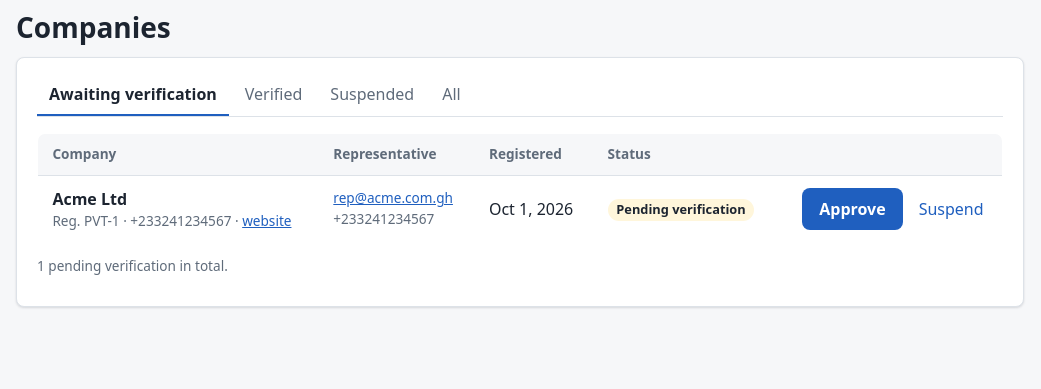
it: CompaniesPage (US-04, US-12) › shows why an approval was refused
The width and height of the screenshot is (1041, 389).
Click the button "Approve".
click(852, 209)  # box top-left (802, 188), bottom-right (903, 230)
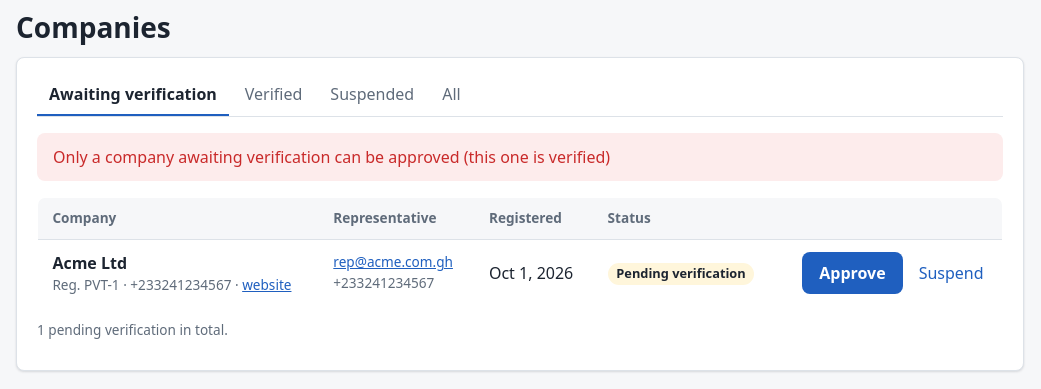
Result: the text "Only a company awaiting verification can be approved (this one is verified)" is shown at top-left (37, 133), bottom-right (1003, 181)
